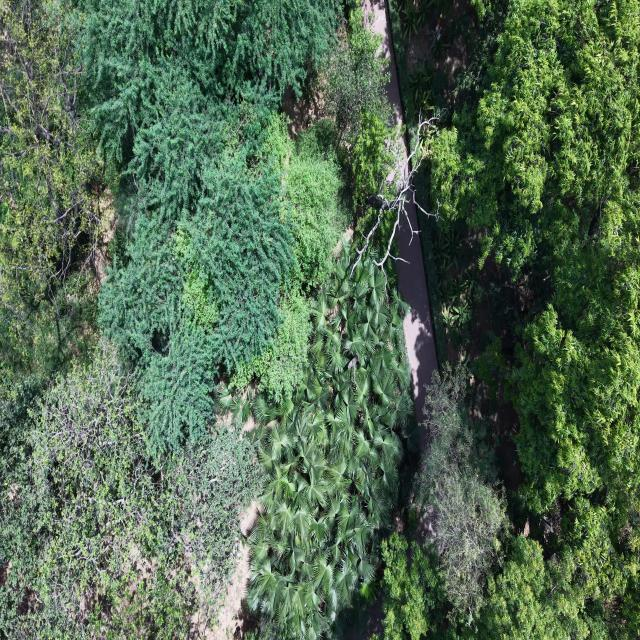DRY_AREA: (396, 218, 437, 421), (396, 219, 437, 422), (396, 220, 437, 422)
VEGETATION_TREE: (0, 0, 639, 639), (0, 0, 410, 638), (2, 2, 338, 450), (423, 0, 639, 638), (430, 2, 639, 601), (100, 45, 370, 450), (0, 341, 261, 638), (100, 107, 297, 450), (248, 244, 412, 638), (382, 366, 617, 639), (431, 0, 637, 276), (79, 0, 339, 197), (0, 0, 104, 374), (231, 118, 348, 403), (383, 533, 610, 639), (414, 366, 506, 621), (324, 9, 398, 249), (475, 536, 609, 639), (324, 9, 390, 205), (231, 292, 311, 404), (324, 9, 390, 144), (285, 149, 346, 287), (382, 532, 446, 639), (350, 112, 392, 204), (399, 0, 433, 42), (409, 62, 433, 111)
